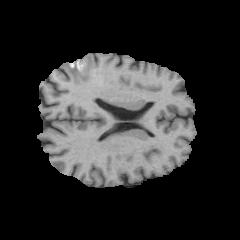glioma: (60, 54, 94, 87)
